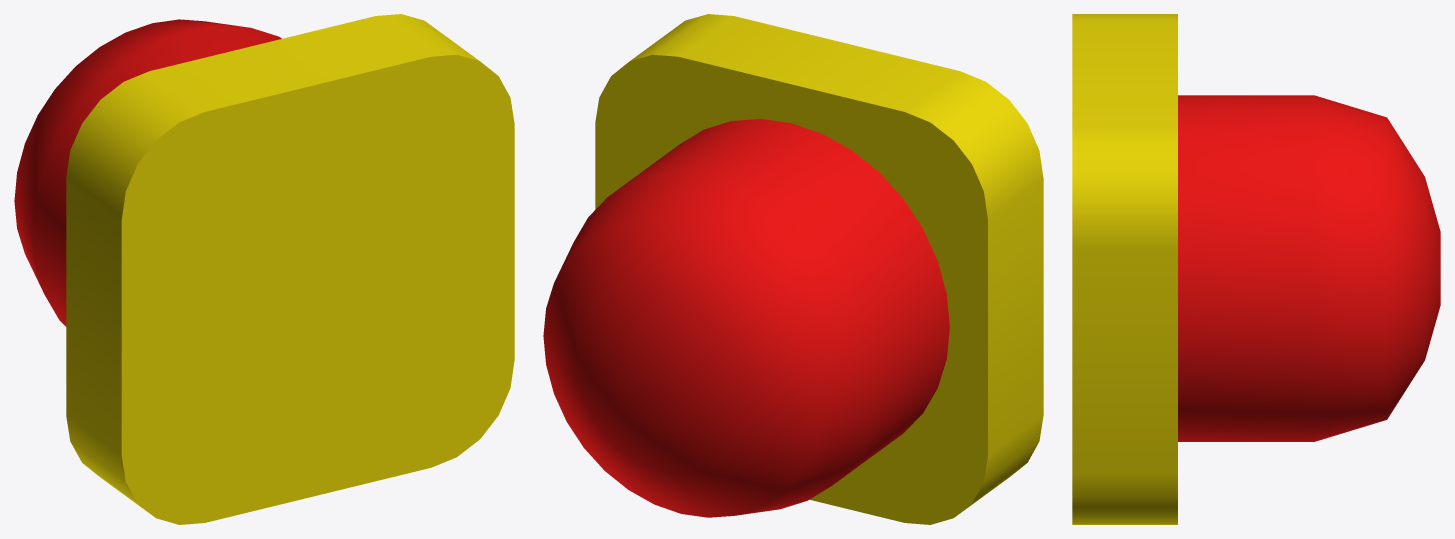
The model's file is Siren.fbx.
3 views of the same model, side by side, from view 1: azimuth 30°, elevation 25°; view 2: azimuth 150°, elevation 25°; view 3: azimuth 270°, elevation 25° (orthographic). The views are drawn at different scales.
Visible parts, largest first — view 1: Siren; view 2: Siren; view 3: Siren.
Boxes of the visible parts, x1,y1,x2,y2 form: Siren: (14, 14, 514, 524); Siren: (543, 14, 1043, 524); Siren: (1072, 14, 1440, 524).
Size of the model in its own units: 62.68 by 62.68 by 53.61.
